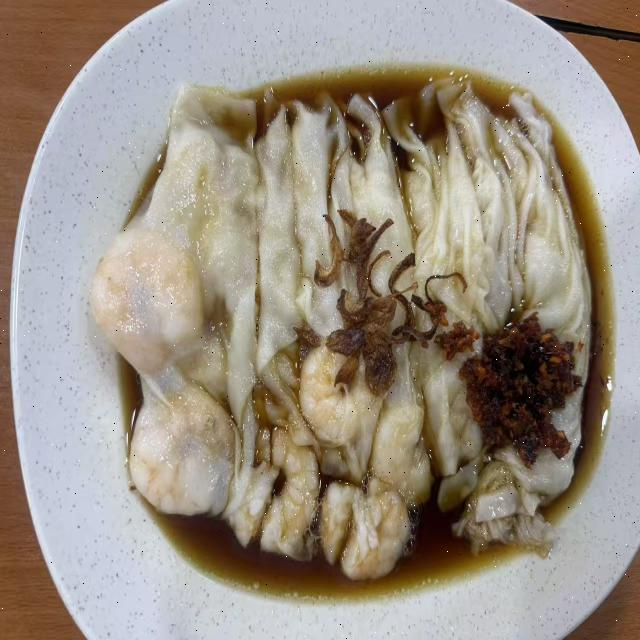Chee Cheong Fun: (71, 47, 624, 579)
